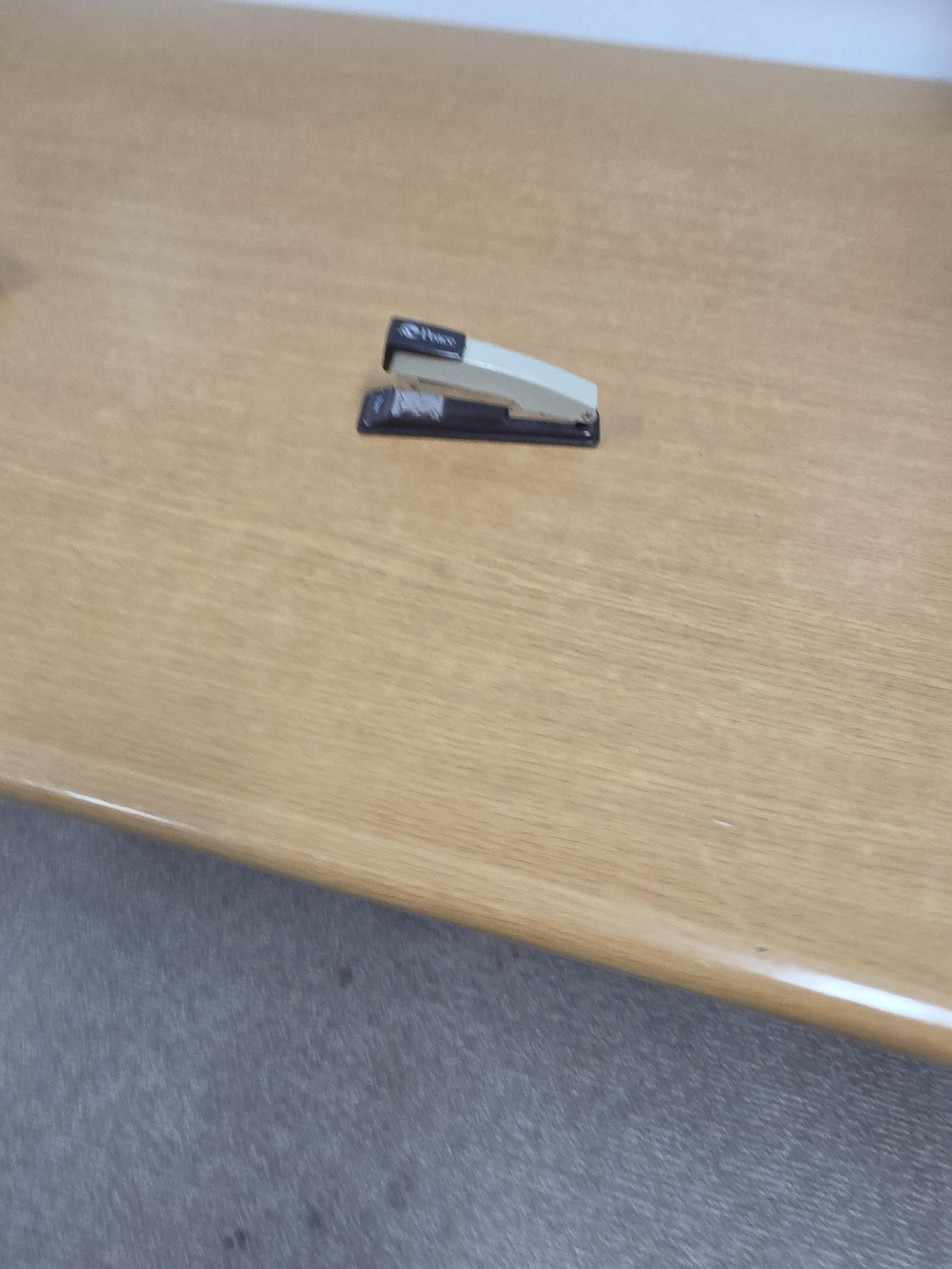stapler: (355, 315, 601, 449)
